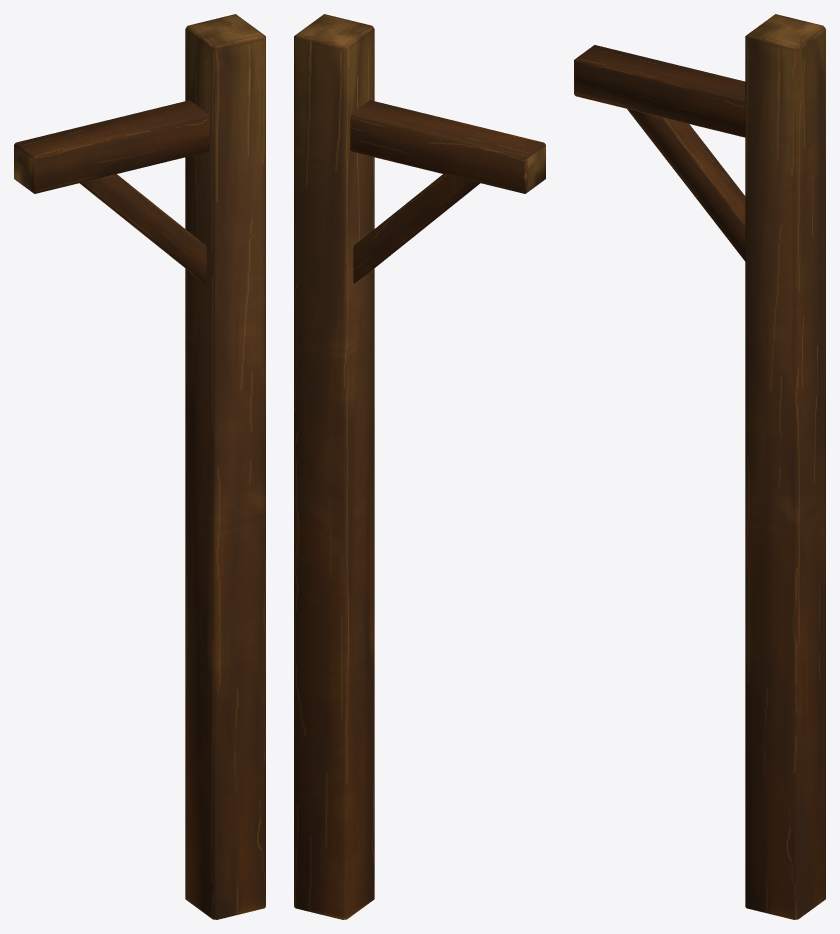
File: Farol_Madera_Original_Oscuro.fbx
3 renders of one model, left to right at view 1: azimuth 30°, elevation 25°; view 2: azimuth 150°, elevation 25°; view 3: azimuth 330°, elevation 25°, orthographic.
Parts seen in each view (by area): view 1: Farol_Madera_Original_Oscuro; view 2: Farol_Madera_Original_Oscuro; view 3: Farol_Madera_Original_Oscuro.
Part boxes in pixels (x1=…): Farol_Madera_Original_Oscuro: x1=14, y1=14, x2=265, y2=919; Farol_Madera_Original_Oscuro: x1=294, y1=14, x2=545, y2=919; Farol_Madera_Original_Oscuro: x1=574, y1=14, x2=825, y2=919.
Size of the model in its own units: 81.91 by 299 by 18.98.
